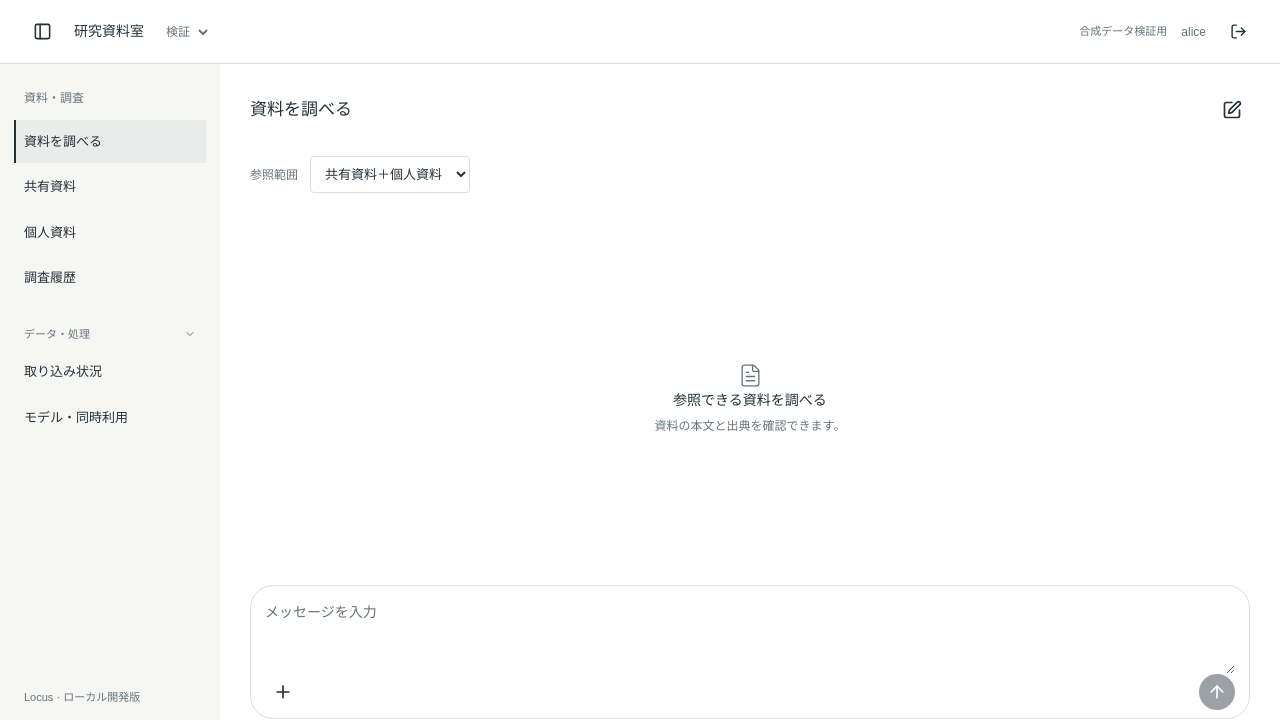
Test case: approved chat interaction baseline › does not submit during Japanese IME composition or Shift+Enter
Step 1. Type "成膜" into the text box labelled "メッセージ" → (750, 637), box [265,600,1235,674]
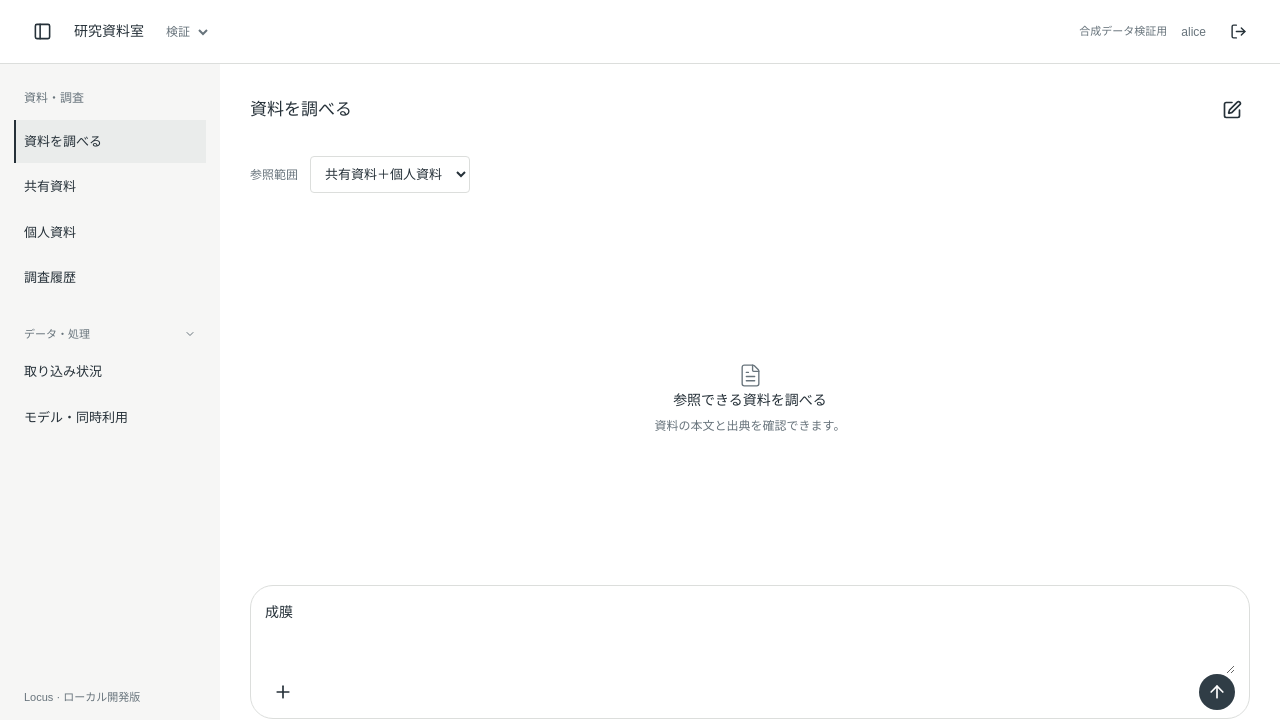
Step 2. Press Enter in the text box named "メッセージ", box [265,600,1235,674]
Step 3. Press Enter in the text box named "メッセージ", box [265,600,1235,674]
Step 4. Click the button named "送信" → (1217, 692), box [1199,674,1235,710]
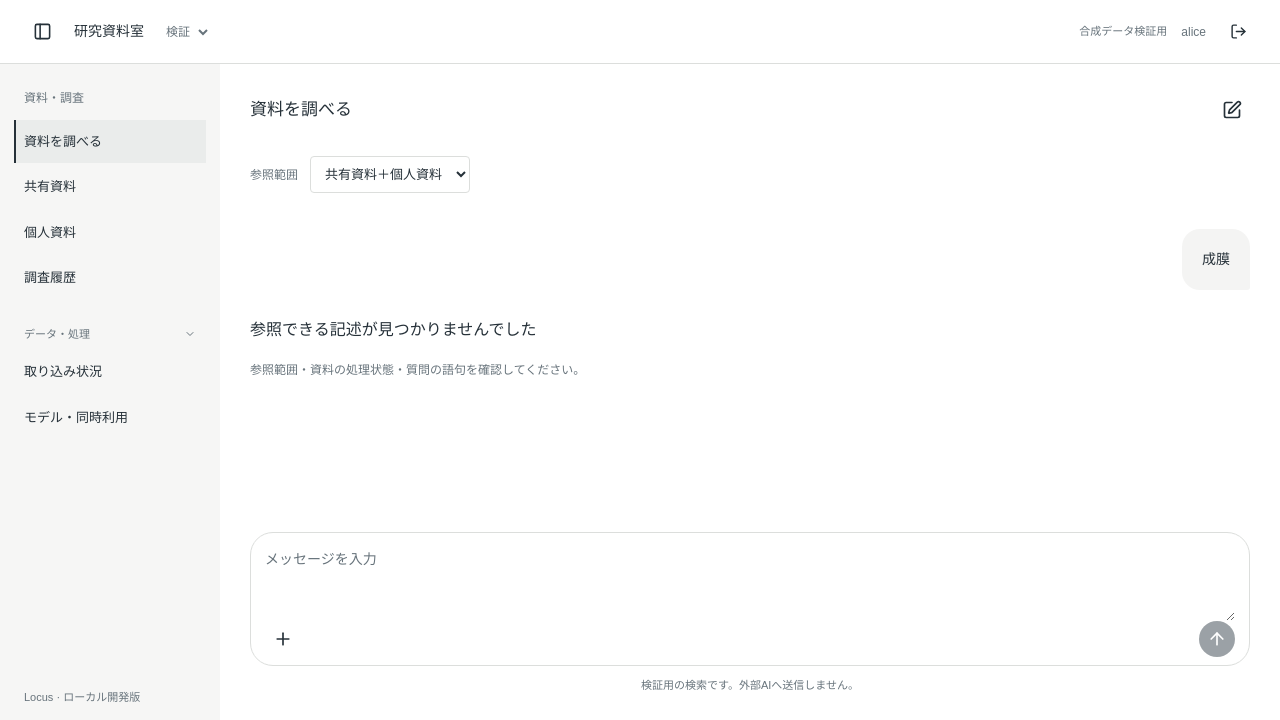
Check: the heading "参照できる記述が見つかりませんでした" is shown, box [250,321,536,338]
